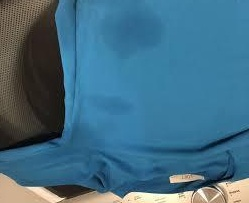oil: (98, 10, 164, 54), (83, 85, 132, 125)
